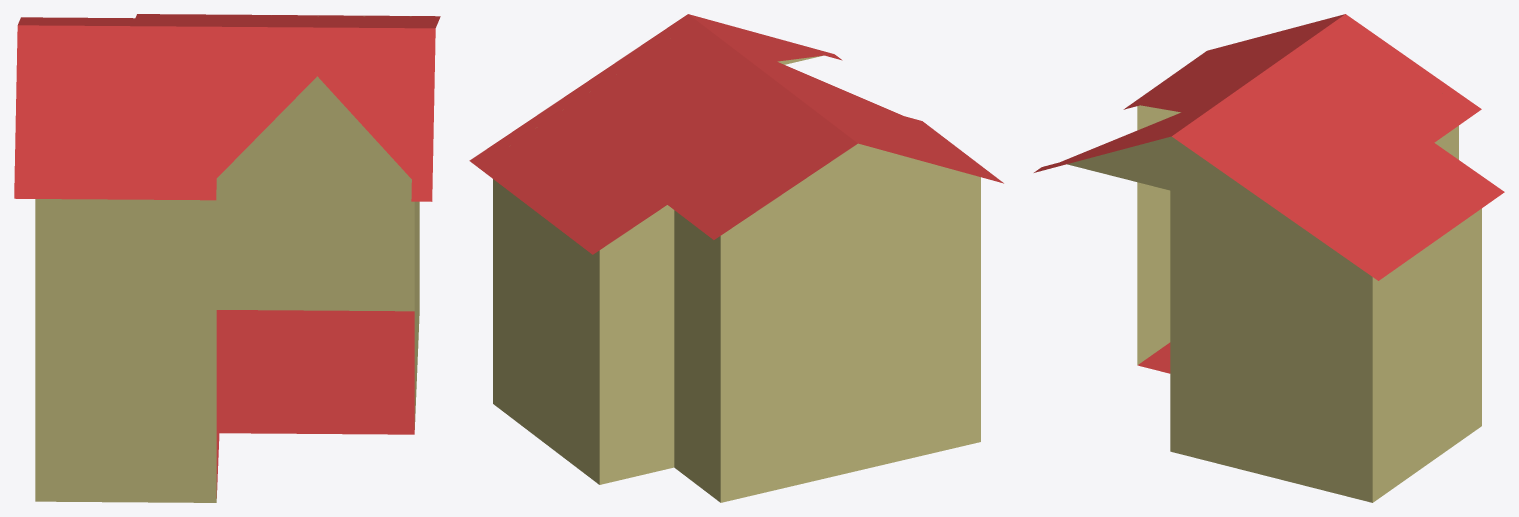
3 views of the same model, side by side, from view 1: azimuth 30°, elevation 25°; view 2: azimuth 150°, elevation 25°; view 3: azimuth 270°, elevation 25° (orthographic). The views are drawn at different scales.
Size of the model in its own units: 14.79 by 14.03 by 10.62.
